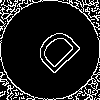D: (25, 25, 83, 83)
